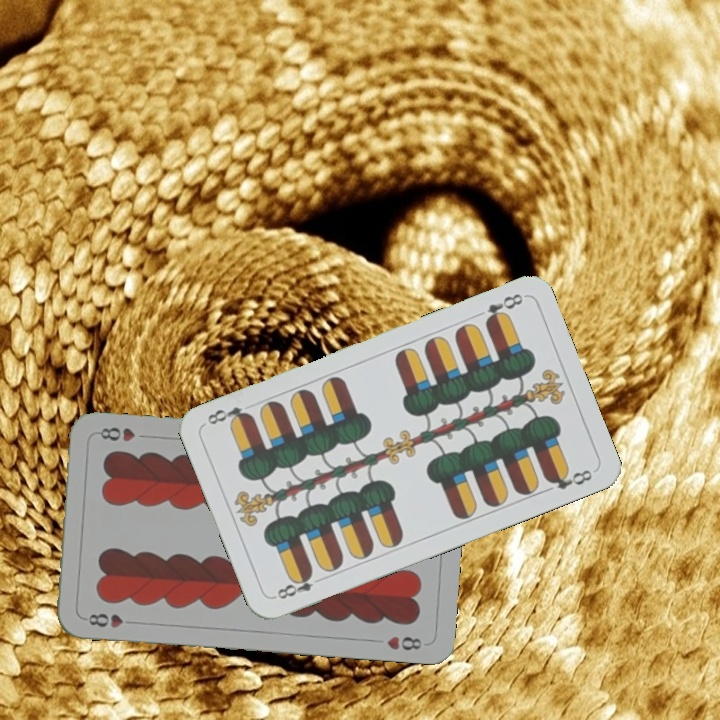E8: (270, 567, 327, 602), (481, 289, 526, 327)
H8: (84, 609, 139, 630)
